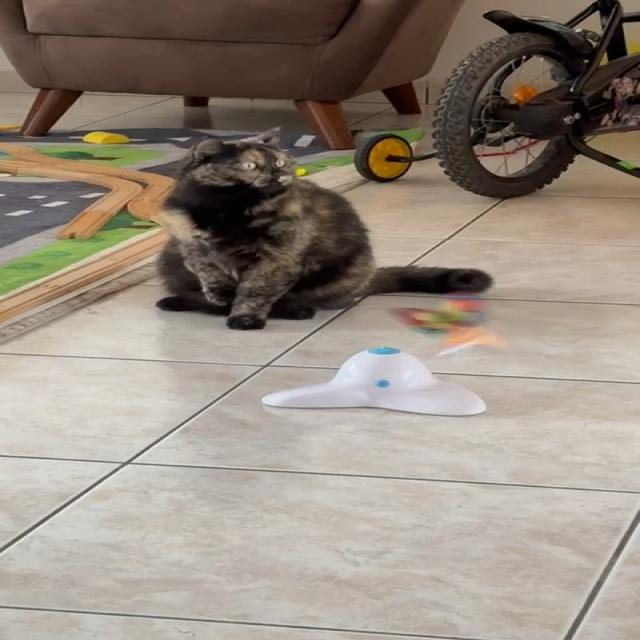authorized: (152, 125, 493, 330)
